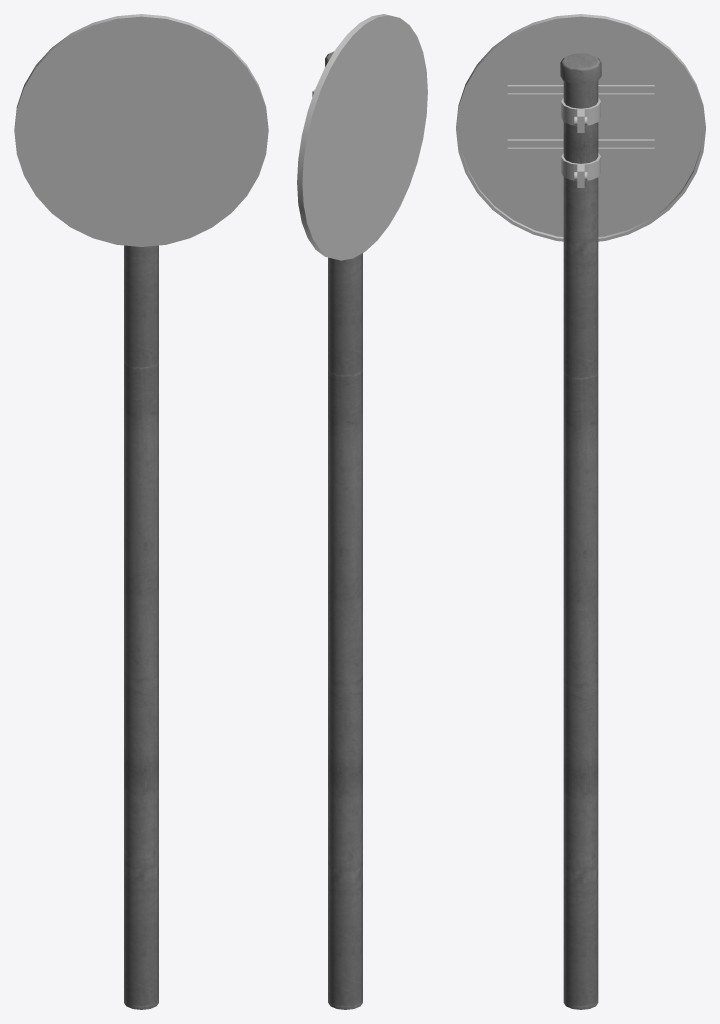
The model's file is SM_RoundPole.fbx.
3 views of the same model, side by side, from view 1: azimuth 90°, elevation 25°; view 2: azimuth 150°, elevation 25°; view 3: azimuth 270°, elevation 25° (orthographic).
Parts seen in each view (by area): view 1: SM_RoundPole_LOD0; view 2: SM_RoundPole_LOD0; view 3: SM_RoundPole_LOD0.
Part boxes in pixels (x1,y1,x2,y2): SM_RoundPole_LOD0: (14,14,268,1009); SM_RoundPole_LOD0: (297,14,427,1009); SM_RoundPole_LOD0: (456,14,705,1009).
Bounding box in the file's own units: 14.11 × 60.18 × 260.
